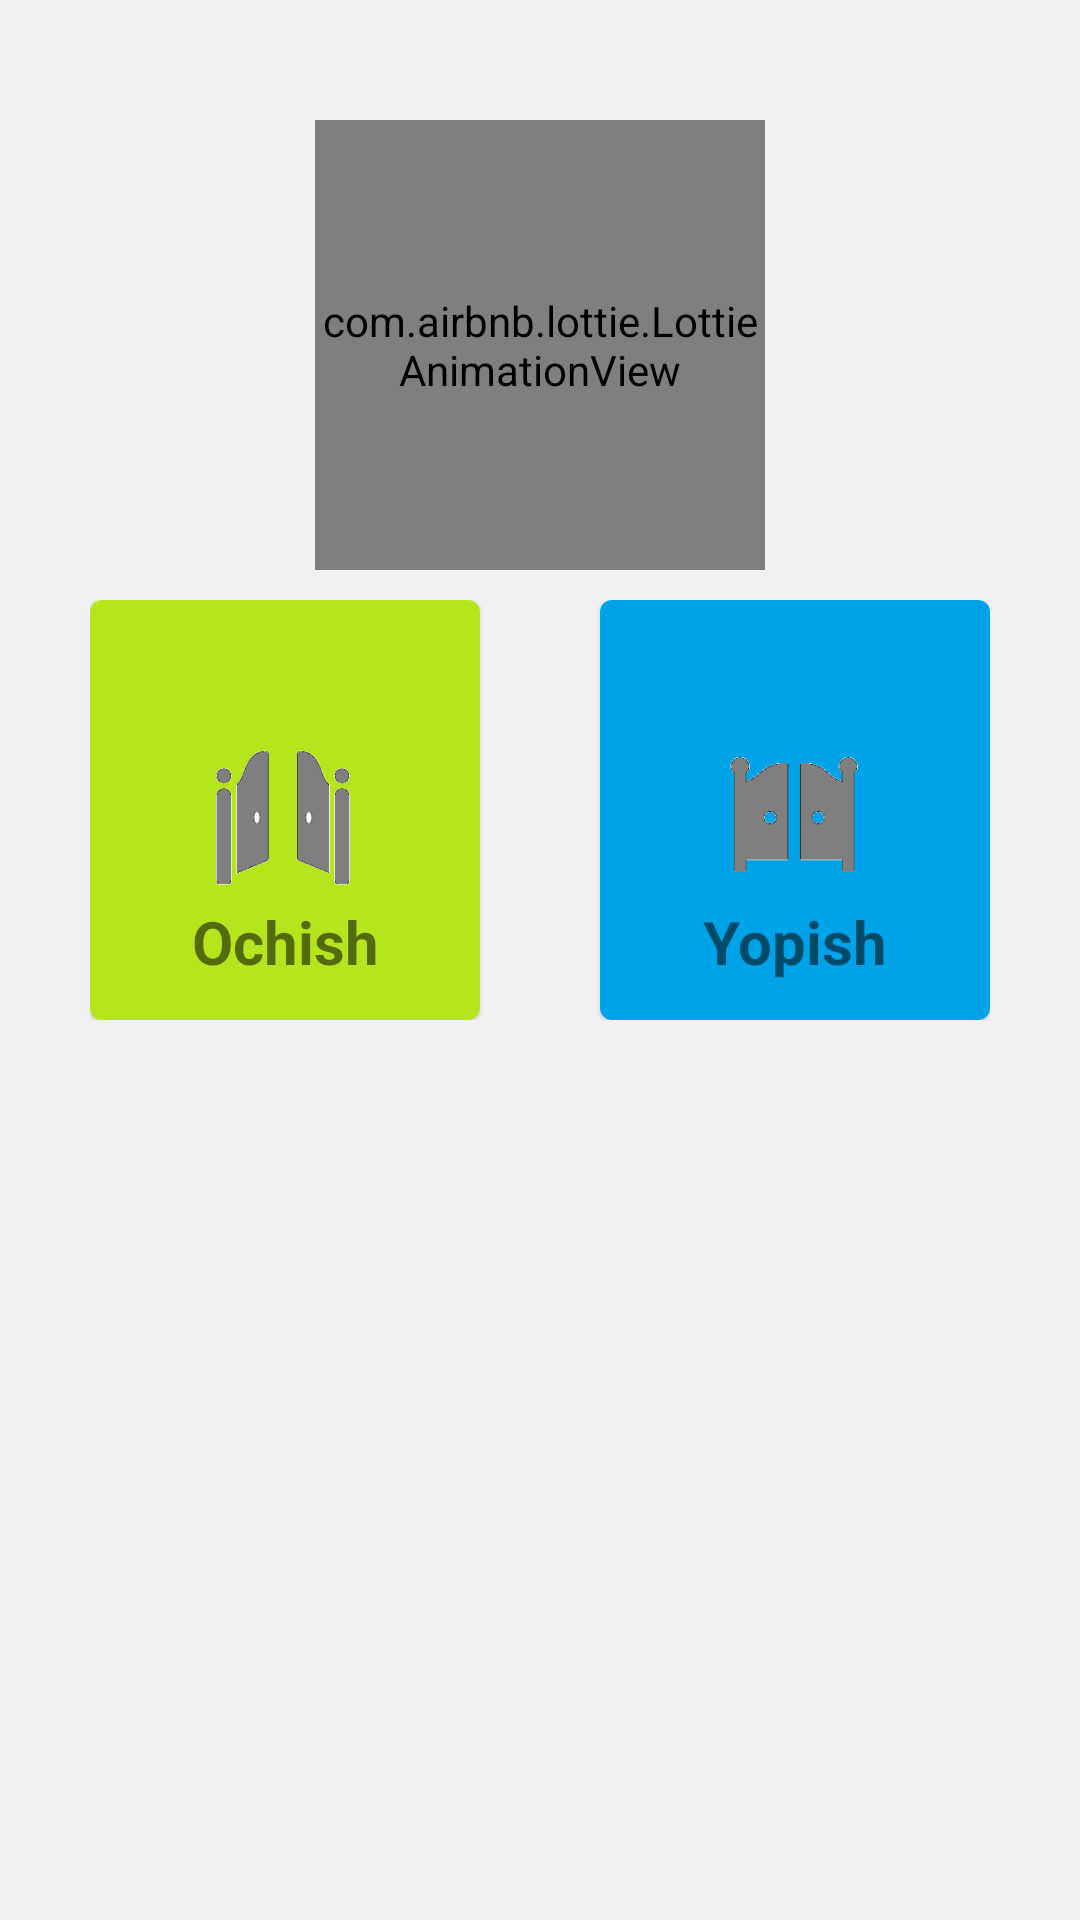

Icon click points for this 1080px x 1920px phone screenshot, format (x=x, y=y):
gate close: (x=794, y=814)
gate open: (x=283, y=817)
